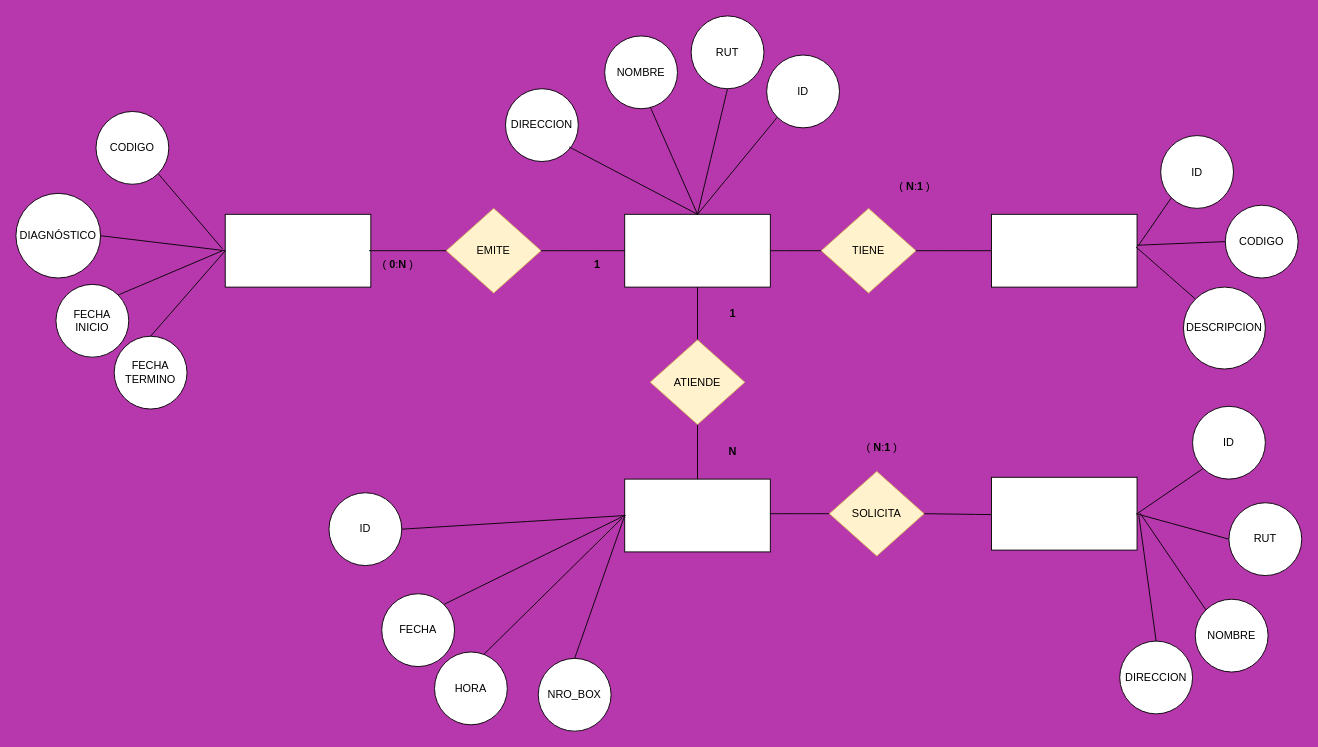
The diagram is 1318 pixels wide and 747 high, and some of its shapes have lost their labels. The shapes that lost their labels are listed below. From the top down, each one's centre as x and y in pixels, then its label:
the point at 297,250: LICENCIA
the point at 697,250: MEDICO
the point at 1064,250: ESPECIALIDAD
the point at 697,515: CONSULTA
the point at 1064,513: PACIENTE
